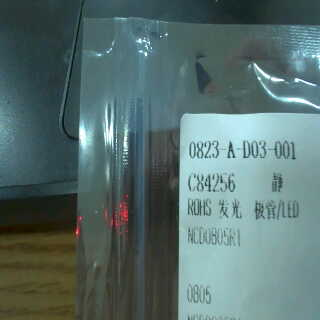LED: (215, 197, 300, 222)
